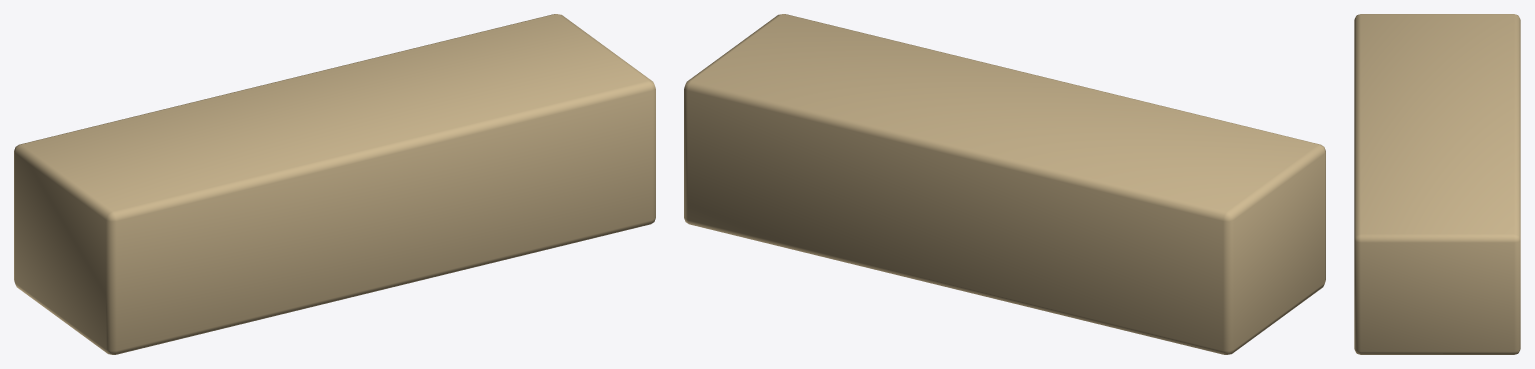
File: trough.gltf
3 renders of one model, left to right at view 1: azimuth 30°, elevation 25°; view 2: azimuth 150°, elevation 25°; view 3: azimuth 270°, elevation 25°, orthographic. The views are drawn at different scales.
Visible parts, largest first — view 1: trough_mesh; view 2: trough_mesh; view 3: trough_mesh.
Boxes of the visible parts, x1,y1,x2,y2 form: trough_mesh: (14,14,655,354); trough_mesh: (684,14,1325,354); trough_mesh: (1354,14,1520,354).
Bounding box in the file's own units: 1.6 × 0.4 × 0.5.
